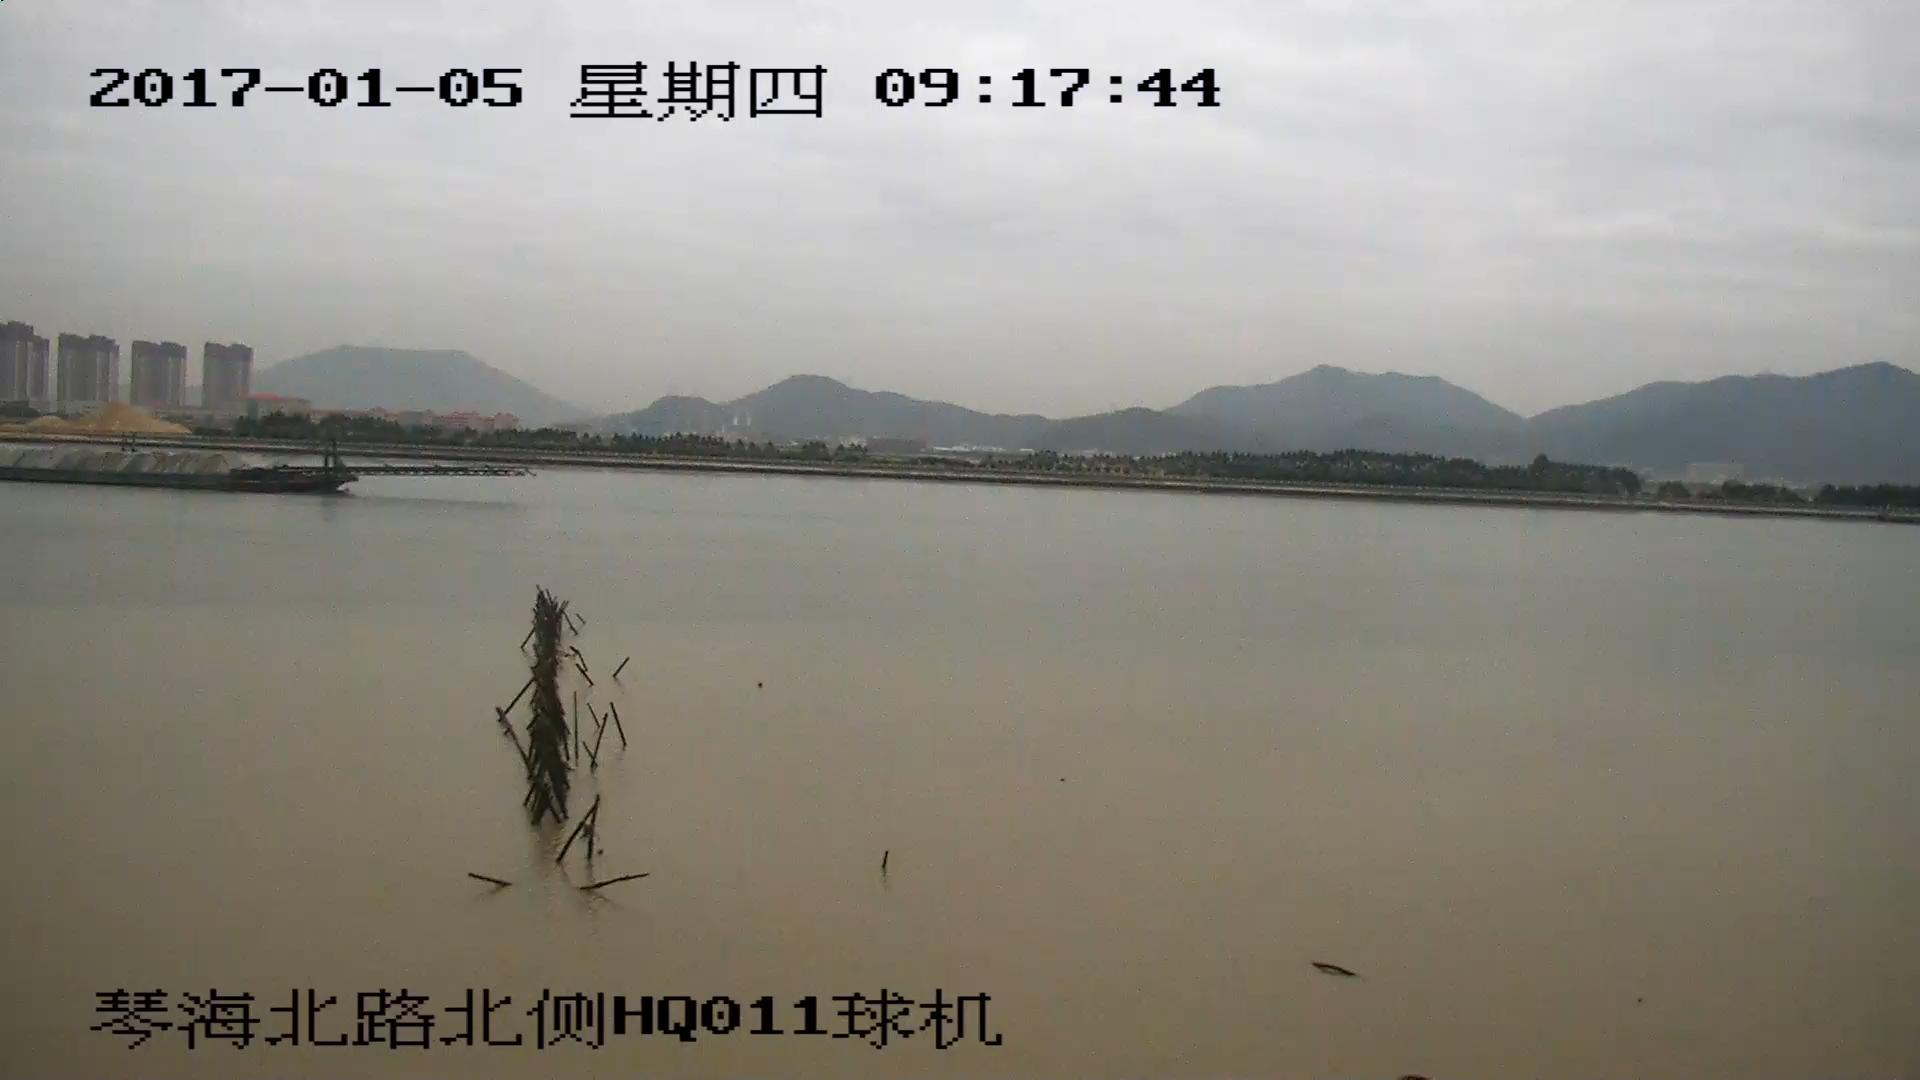Ship: (3, 440, 520, 497)
